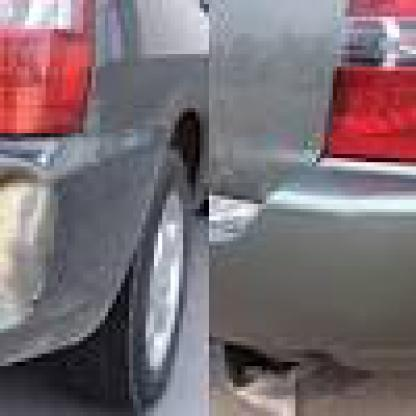dent: (2, 133, 85, 333), (212, 324, 379, 408)
